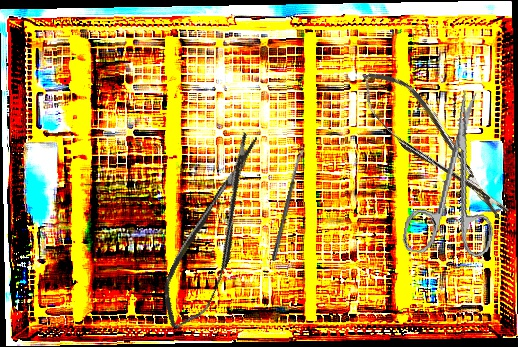Iris Scissors: (400, 85, 517, 265)
Micro Scissor: (350, 57, 518, 236), (149, 127, 280, 337)
Surgical Spoon: (271, 145, 305, 262)
